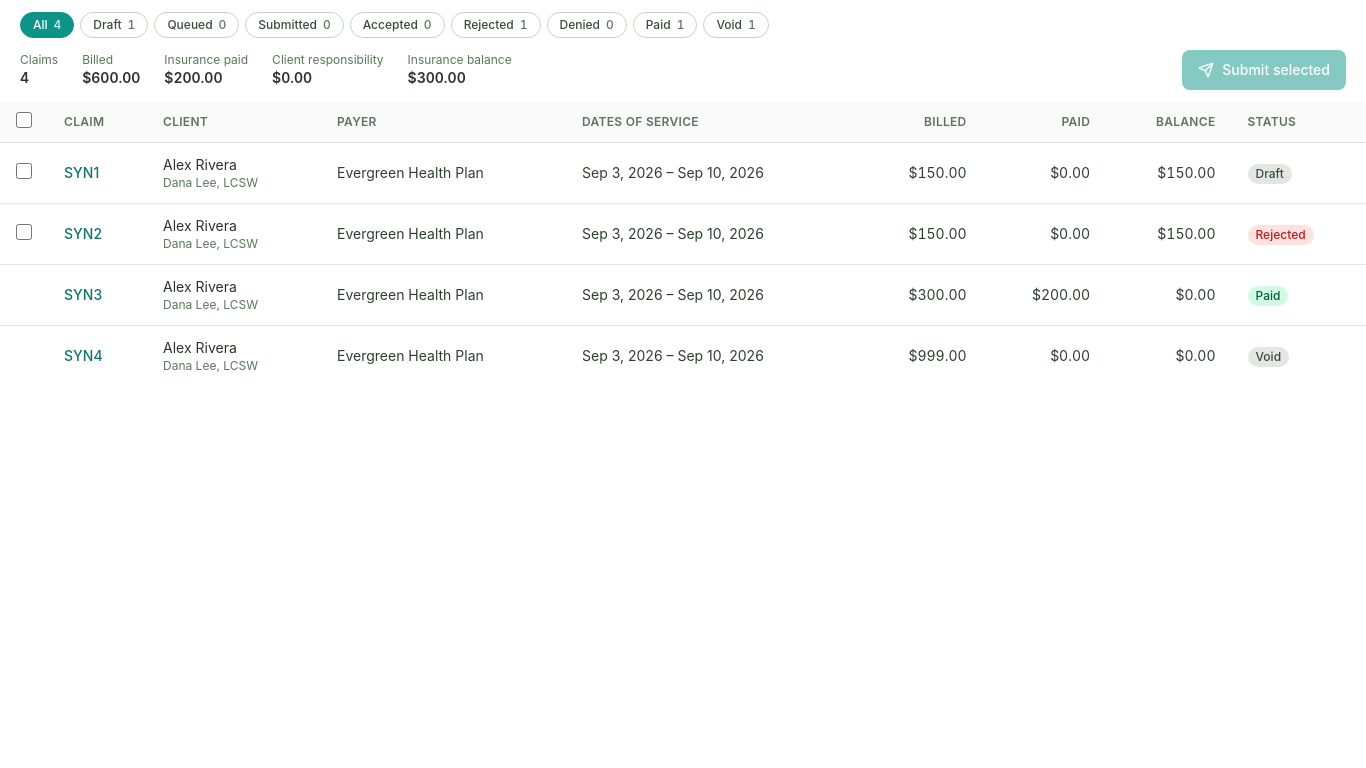
claims by status › submits only draft and rejected claims in bulk
Expected: the link "SYN1" is shown, top-left (64, 164), bottom-right (99, 181)
Expected: the button "Submit selected" is disabled, top-left (1182, 50), bottom-right (1346, 90)
Click the checkbox named "Select all draft and rejected claims" at point(24, 120), box top-left (16, 112), bottom-right (32, 128)
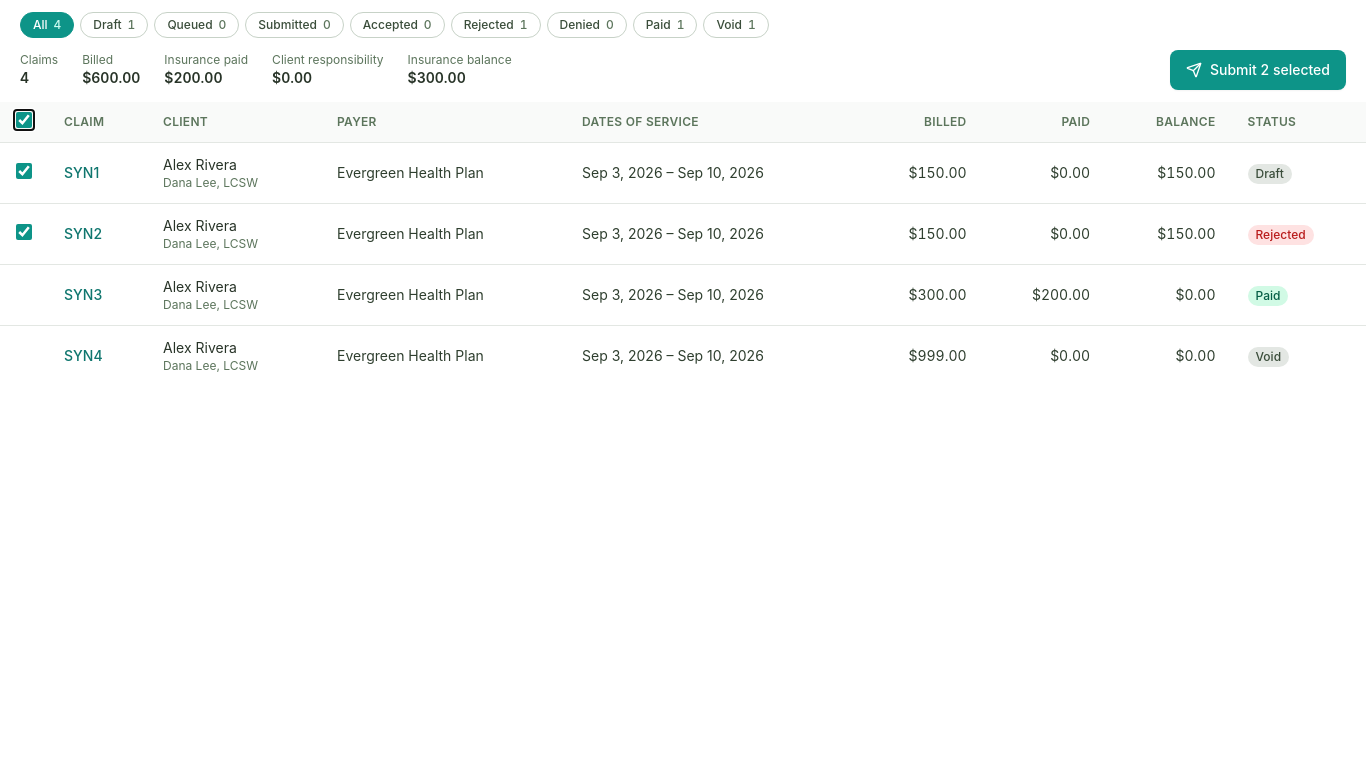
Click the button "Submit 2 selected" at point(1258, 70), box top-left (1170, 50), bottom-right (1346, 90)
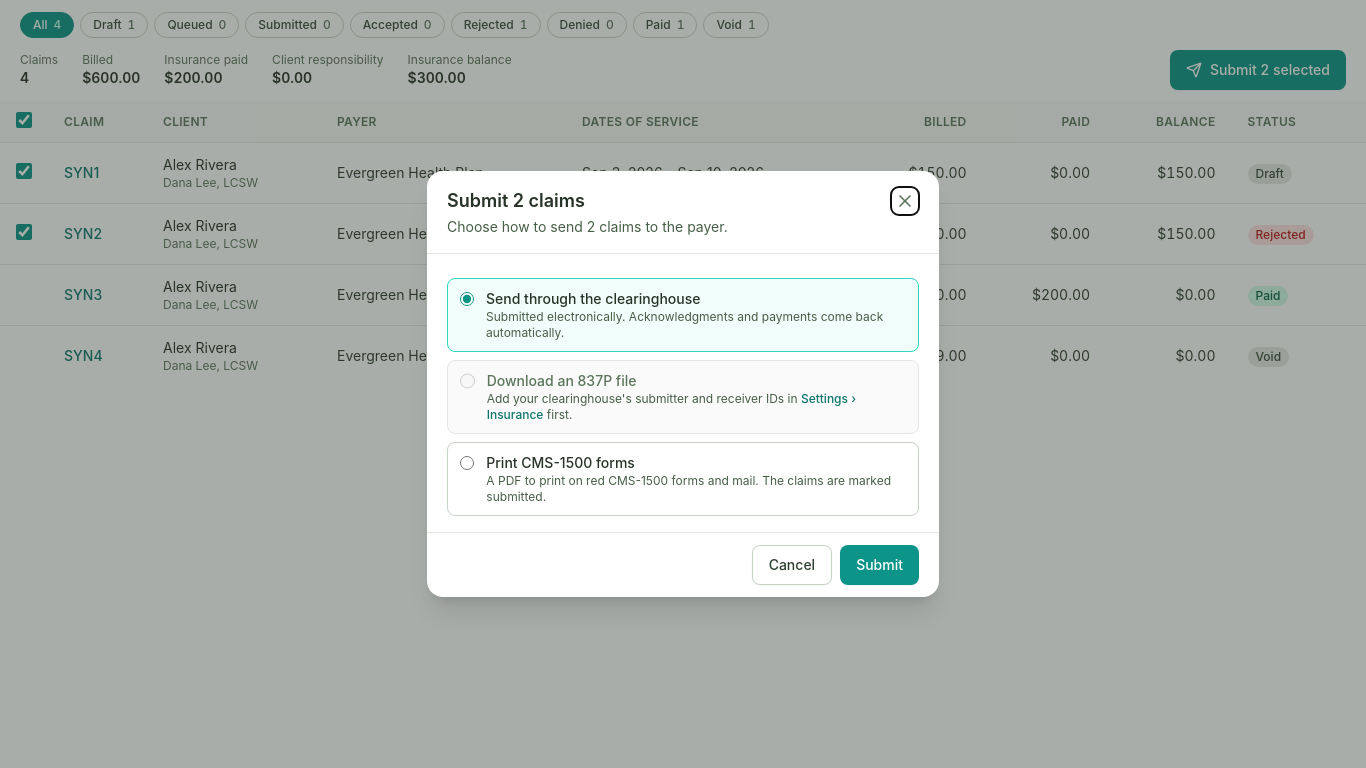
Expected: the dialog "Submit 2 claims" is shown, top-left (427, 171), bottom-right (939, 597)
